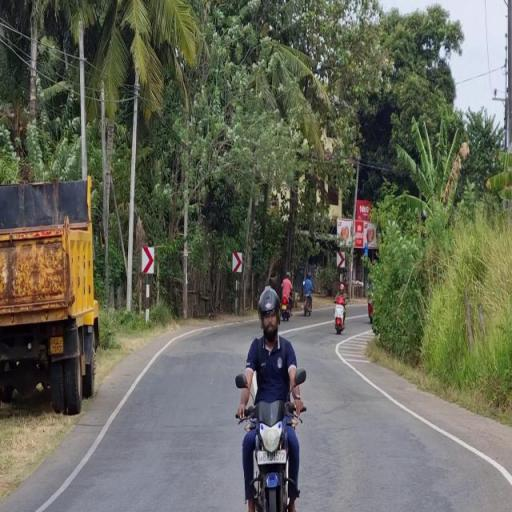double_white_line: (336, 329, 510, 487), (0, 17, 36, 71)
